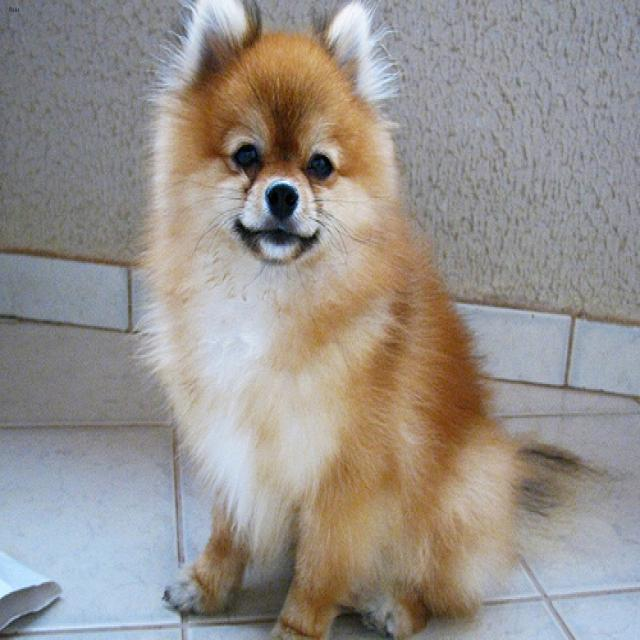dog-pomeranian: (128, 2, 603, 637)
